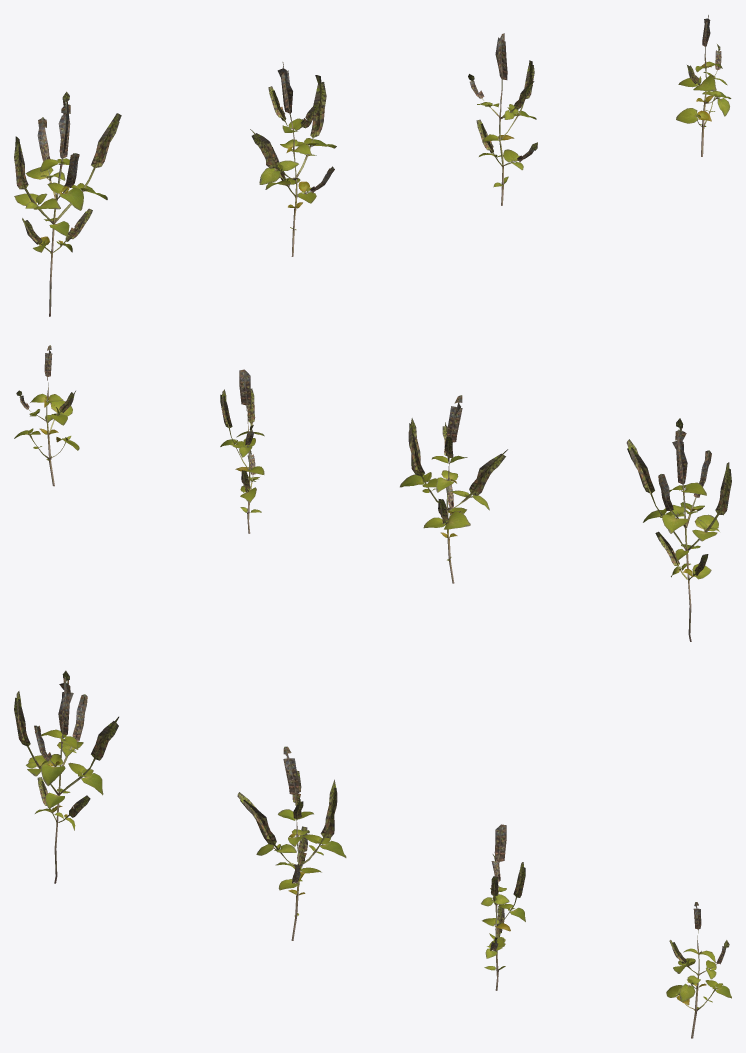
Rendered from shrub_03.glb.
3 views of the same model, one above another, from view 1: azimuth 30°, elevation 25°; view 2: azimuth 150°, elevation 25°; view 3: azimuth 330°, elevation 25° (orthographic). The views are drawn at different scales.
Parts seen in each view (by area): view 1: shrub_03_a, shrub_03_b, shrub_03_c, shrub_03_d; view 2: shrub_03_a, shrub_03_b, shrub_03_c, shrub_03_d; view 3: shrub_03_a, shrub_03_b, shrub_03_c, shrub_03_d.
Part boxes in pixels (bbox=[...]): shrub_03_a: bbox=[14, 91, 121, 316]; shrub_03_b: bbox=[250, 62, 336, 256]; shrub_03_c: bbox=[468, 33, 537, 205]; shrub_03_d: bbox=[676, 15, 731, 156]; shrub_03_a: bbox=[626, 418, 731, 641]; shrub_03_b: bbox=[400, 395, 507, 583]; shrub_03_c: bbox=[220, 369, 264, 533]; shrub_03_d: bbox=[14, 345, 79, 486]; shrub_03_a: bbox=[14, 670, 118, 883]; shrub_03_b: bbox=[237, 746, 346, 940]; shrub_03_c: bbox=[481, 824, 525, 990]; shrub_03_d: bbox=[666, 902, 731, 1038].
Bounding box in the file's own units: 1.37 × 0.4028 × 0.1512.
Materials: 1 (1 with a texture image).
